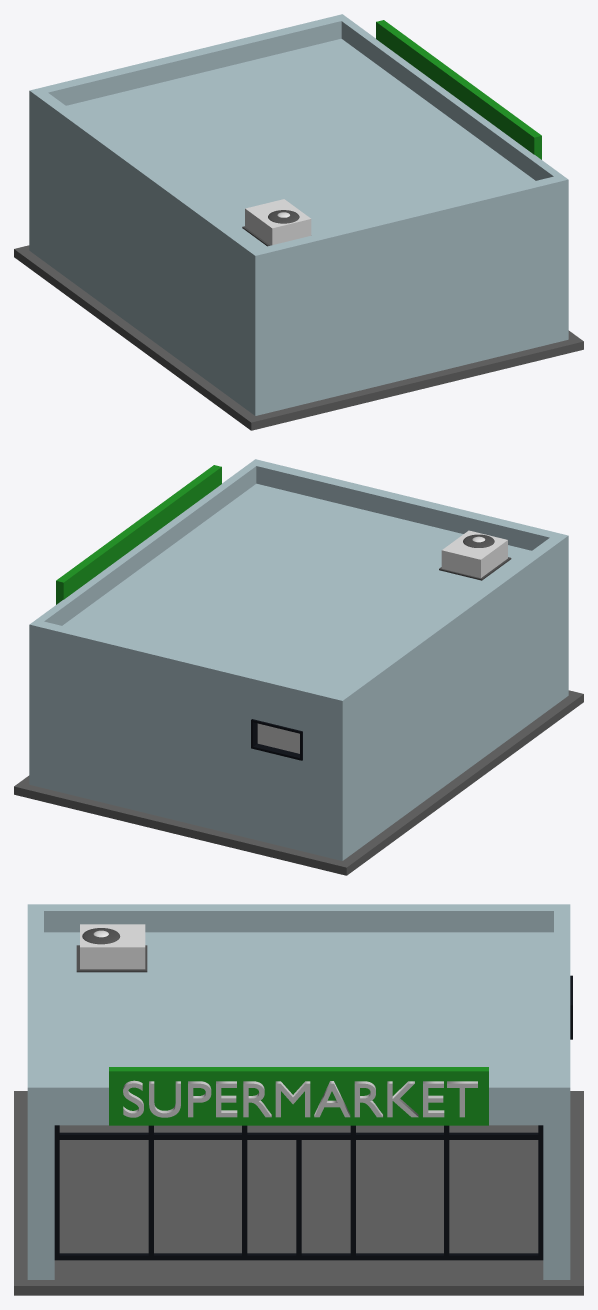
The model's file is grocery_store.glb.
The picture shows the model from 3 angles, top to bottom: view 1: azimuth 30°, elevation 25°; view 2: azimuth 150°, elevation 25°; view 3: azimuth 270°, elevation 25°; orthographic projection. The views are drawn at different scales.
Parts seen in each view (by area): view 1: Steni, Cokol, Куб, Куб.002; view 2: Steni, Cokol, Куб, Куб.002, Okno.001, Куб.001; view 3: Steni, Cokol, Куб, Rama, SUPERMARKET, Куб.002.
Boxes of the visible parts, x1,y1,x2,y2 form: Steni: (29,14,568,415); Cokol: (14,245,583,430); Куб: (376,20,541,159); Куб.002: (245,199,311,245); Steni: (29,459,568,860); Cokol: (14,690,583,875); Куб: (56,465,221,604); Куб.002: (441,530,507,578); Okno.001: (257,723,299,753); Куб.001: (251,719,302,760); Steni: (27,904,570,1279); Cokol: (14,1091,583,1295); Куб: (109,1067,488,1125); Rama: (54,1125,543,1260); SUPERMARKET: (123,1080,477,1117); Куб.002: (80,924,145,969).
Size of the model in its own units: 8.55 by 4.53 by 10.5.
